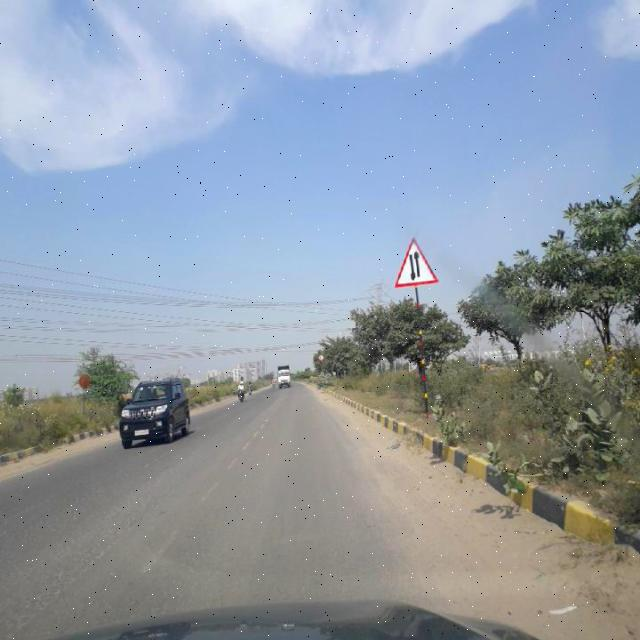D20: (1, 478, 153, 596)
